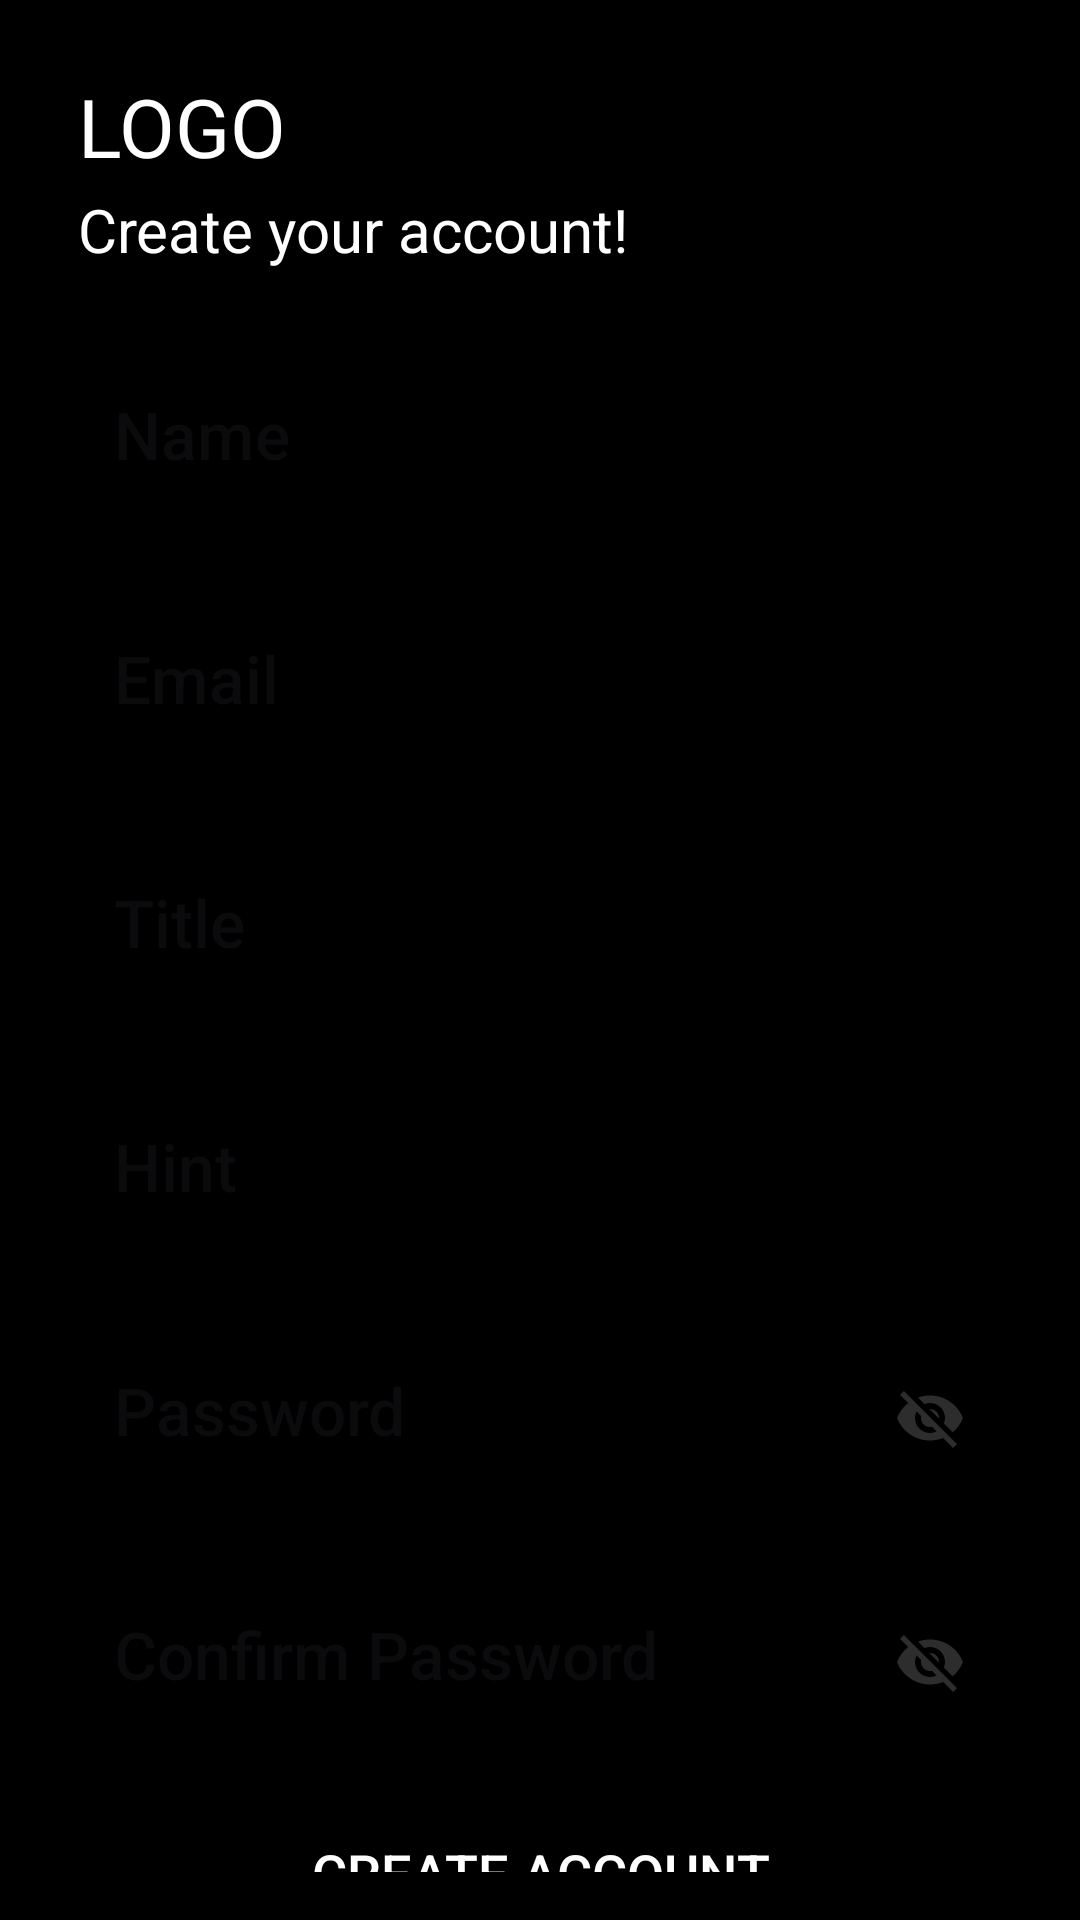

Icon bounding boxes for this 1080 × 1920 phone screenshot, format (x1, y1, x2, y2):
visibility off: (897, 1391, 963, 1448), (897, 1635, 963, 1692)
